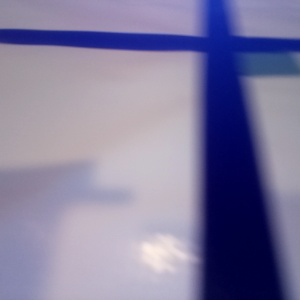bottom_right: (207, 39, 299, 77)
